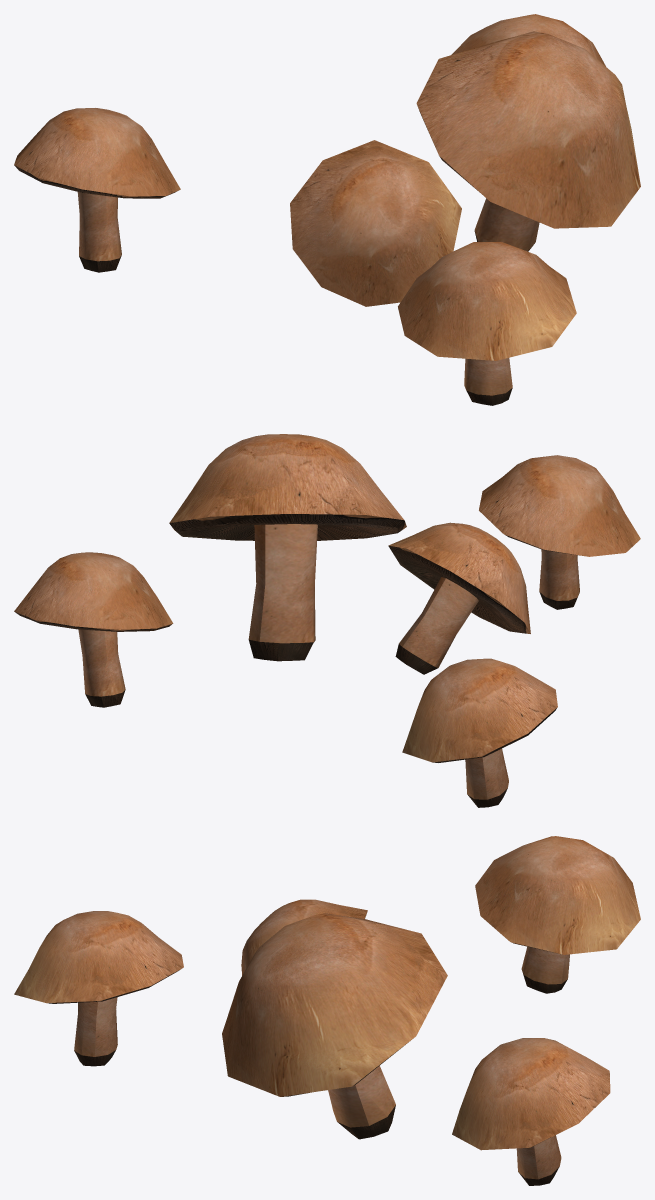
File: MushroomBrownSmall_LOD0.obj
3 renders of one model, top to bottom at view 1: azimuth 30°, elevation 25°; view 2: azimuth 150°, elevation 25°; view 3: azimuth 270°, elevation 25°, orthographic. The views are drawn at different scales.
Parts seen in each view (by area): view 1: MushroomBrownSmall_LOD0; view 2: MushroomBrownSmall_LOD0; view 3: MushroomBrownSmall_LOD0.
Part boxes in pixels (left/top/right/bottom): MushroomBrownSmall_LOD0: left=14, top=14, right=640, bottom=405; MushroomBrownSmall_LOD0: left=14, top=434, right=640, bottom=807; MushroomBrownSmall_LOD0: left=14, top=836, right=640, bottom=1185.
Bounding box in the file's own units: 0.271 × 0.1031 × 0.2671.
